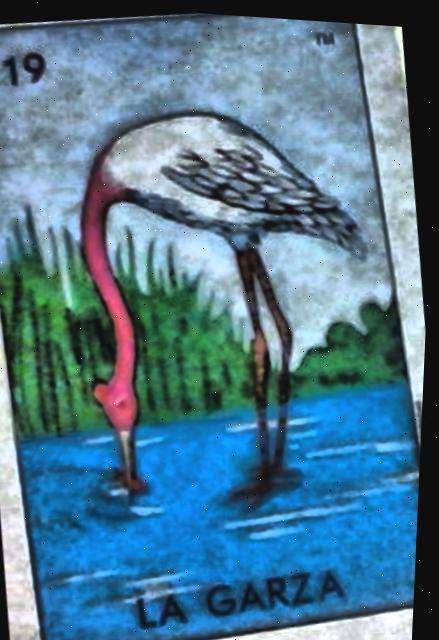La Garza: (0, 13, 424, 640)
